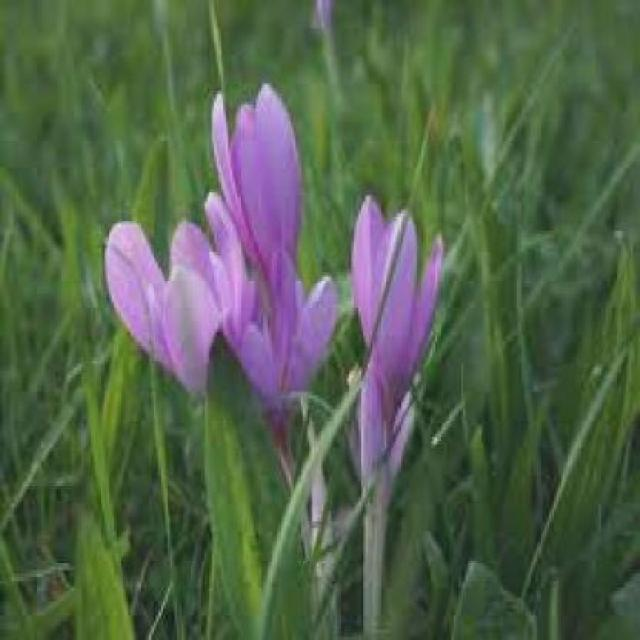Flower: (106, 202, 252, 407), (211, 85, 314, 321), (215, 260, 338, 448), (354, 194, 444, 415)
